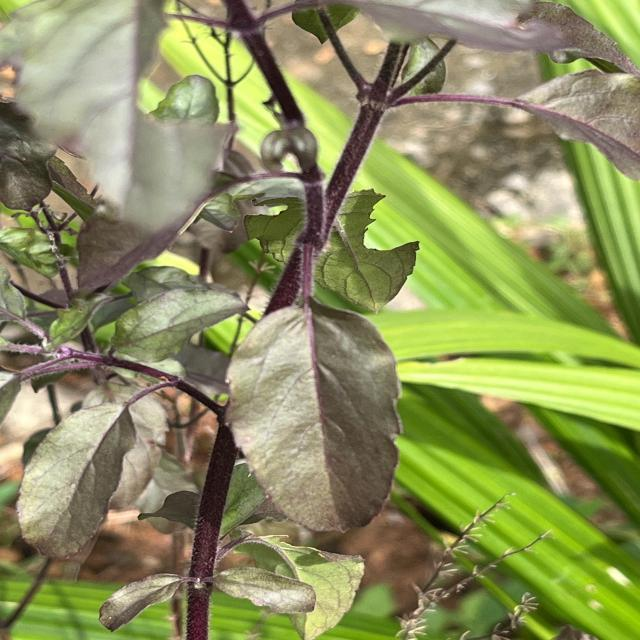Ocimum tenuiflorum: (221, 297, 406, 535), (14, 400, 141, 560)
